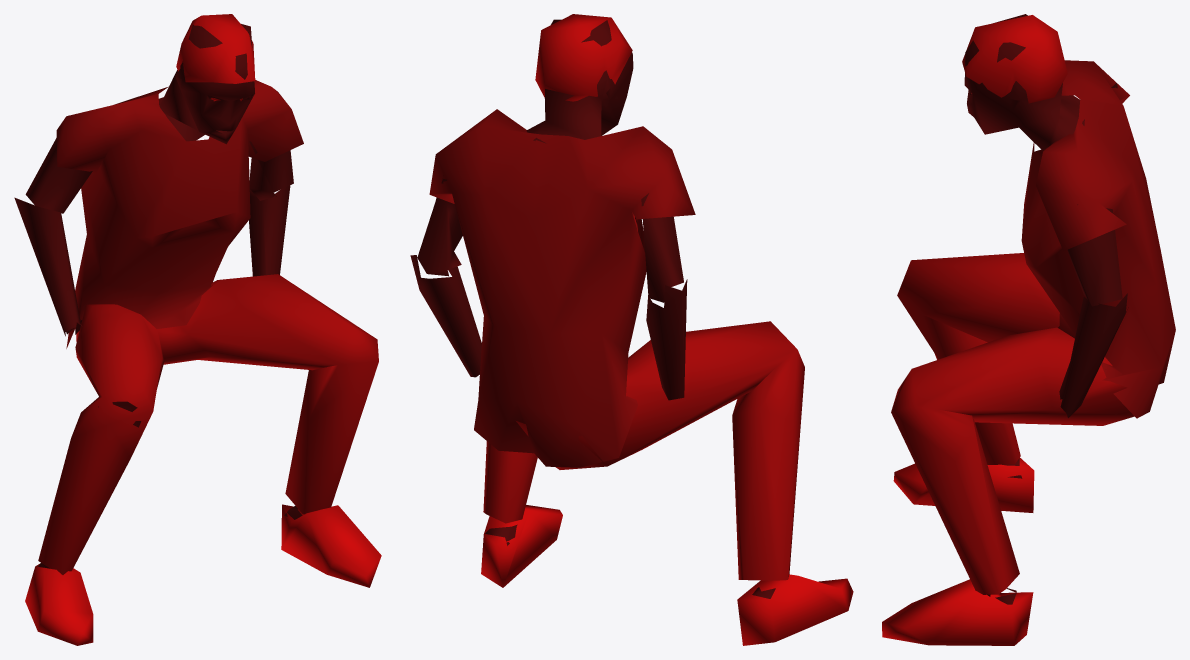
Rendered from crowd_fanSit.glb.
3 views of the same model, side by side, from view 1: azimuth 30°, elevation 25°; view 2: azimuth 150°, elevation 25°; view 3: azimuth 270°, elevation 25° (orthographic). The views are drawn at different scales.
Visible parts, largest first — view 1: fanSit; view 2: fanSit; view 3: fanSit.
Boxes of the visible parts, <box> form: fanSit: <box>14,14,381,645</box>; fanSit: <box>410,14,853,645</box>; fanSit: <box>882,14,1175,645</box>.
Size of the model in its own units: 0.81 by 1.29 by 0.5932.
